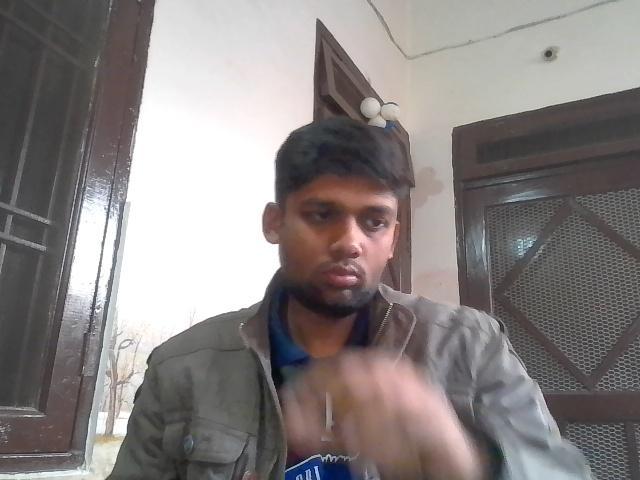ILoveYou: (277, 331, 467, 480)
